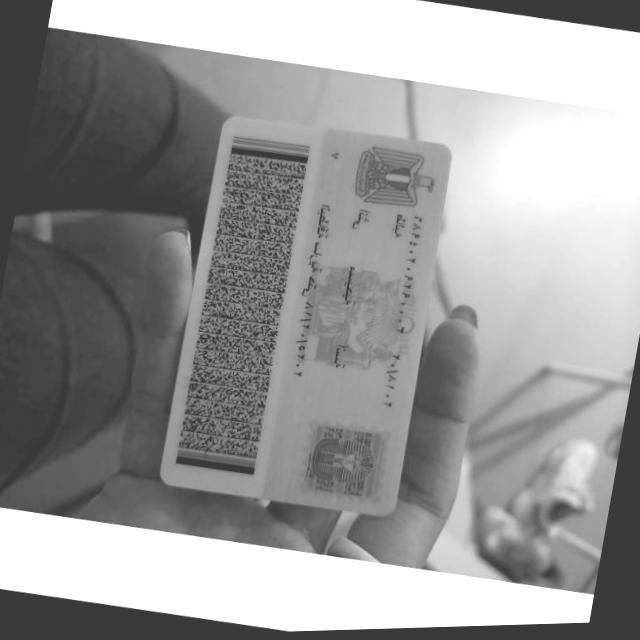id_card: (161, 117, 449, 516)
